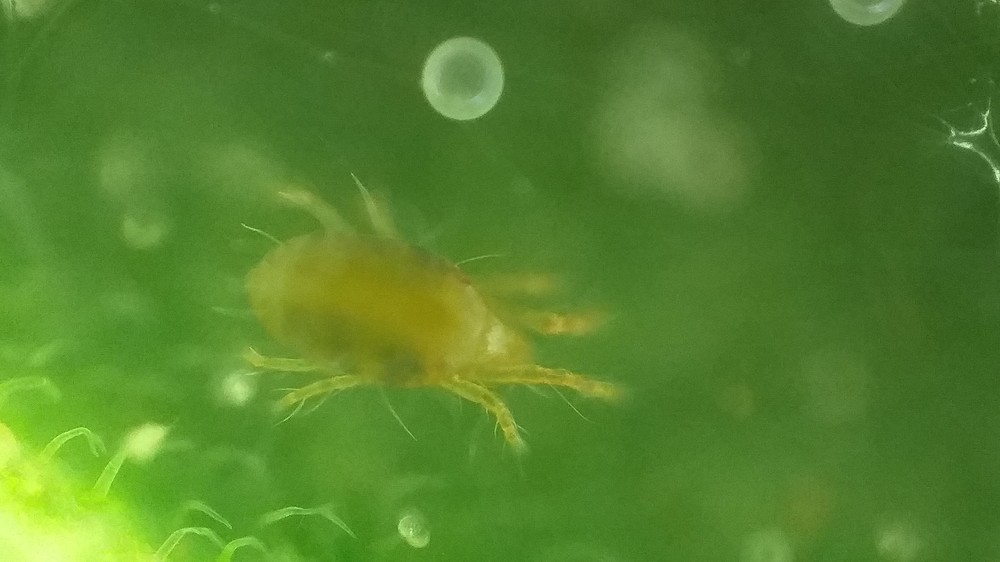Aracnido Rojo: (215, 184, 656, 478)
